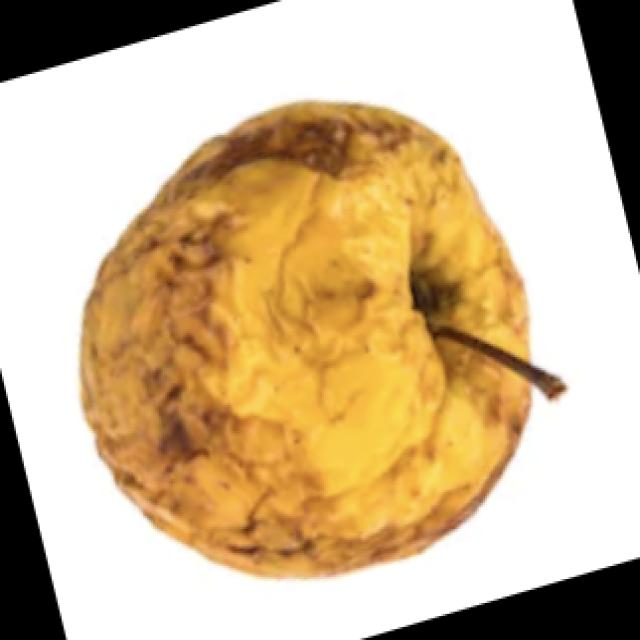organik: (100, 89, 564, 584)
